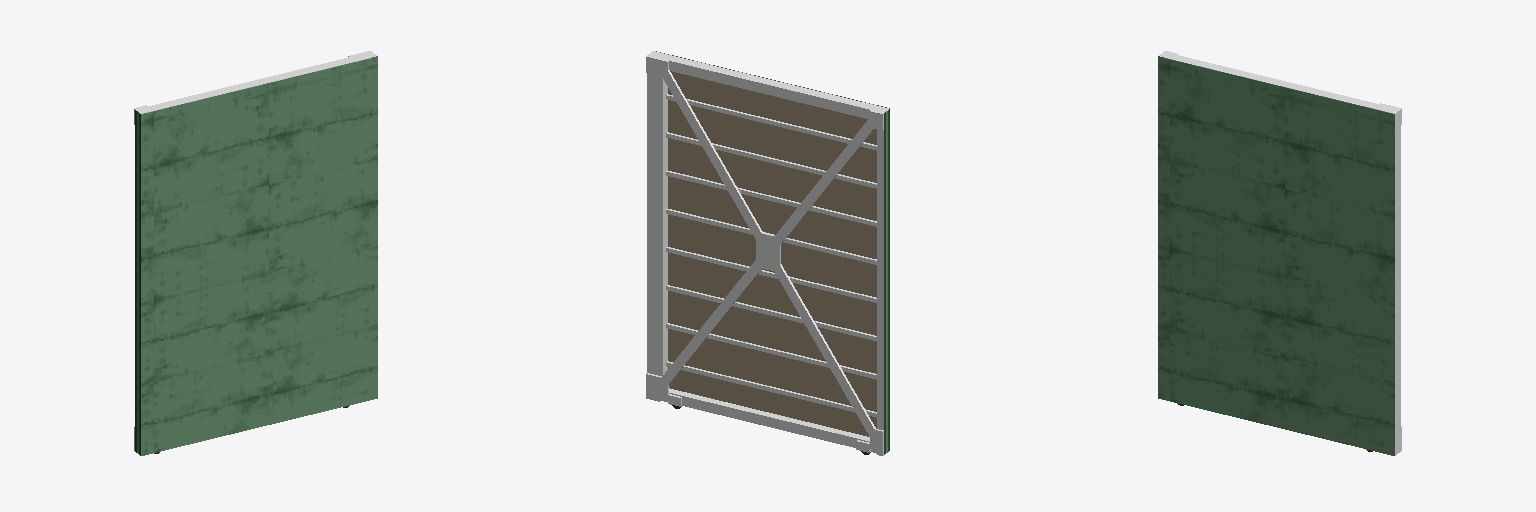
3 views of the same model, side by side, from view 1: azimuth 30°, elevation 25°; view 2: azimuth 150°, elevation 25°; view 3: azimuth 330°, elevation 25° (orthographic).
Bounding box in the file's own units: 1073 × 1502 × 62.18.
Materials: 5 (3 with a texture image).